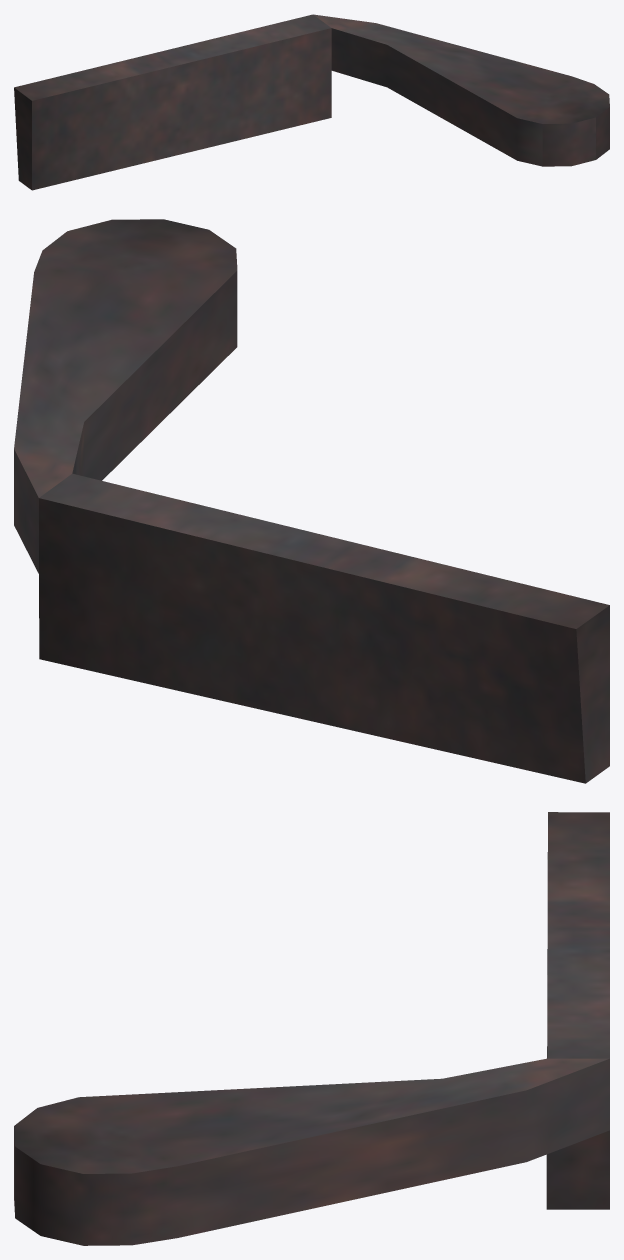
File: rod_line_long.fbx
3 views of the same model, one above another, from view 1: azimuth 30°, elevation 25°; view 2: azimuth 150°, elevation 25°; view 3: azimuth 270°, elevation 25° (orthographic). The views are drawn at different scales.
Visible parts, largest first — view 1: rod_line_long; view 2: rod_line_long; view 3: rod_line_long.
Part boxes in pixels (x1,y1,x2,y2): rod_line_long: [14, 14, 609, 190]; rod_line_long: [14, 219, 609, 783]; rod_line_long: [14, 812, 609, 1245].
Size of the model in its own units: 0.1918 by 0.0374 by 0.1335.
